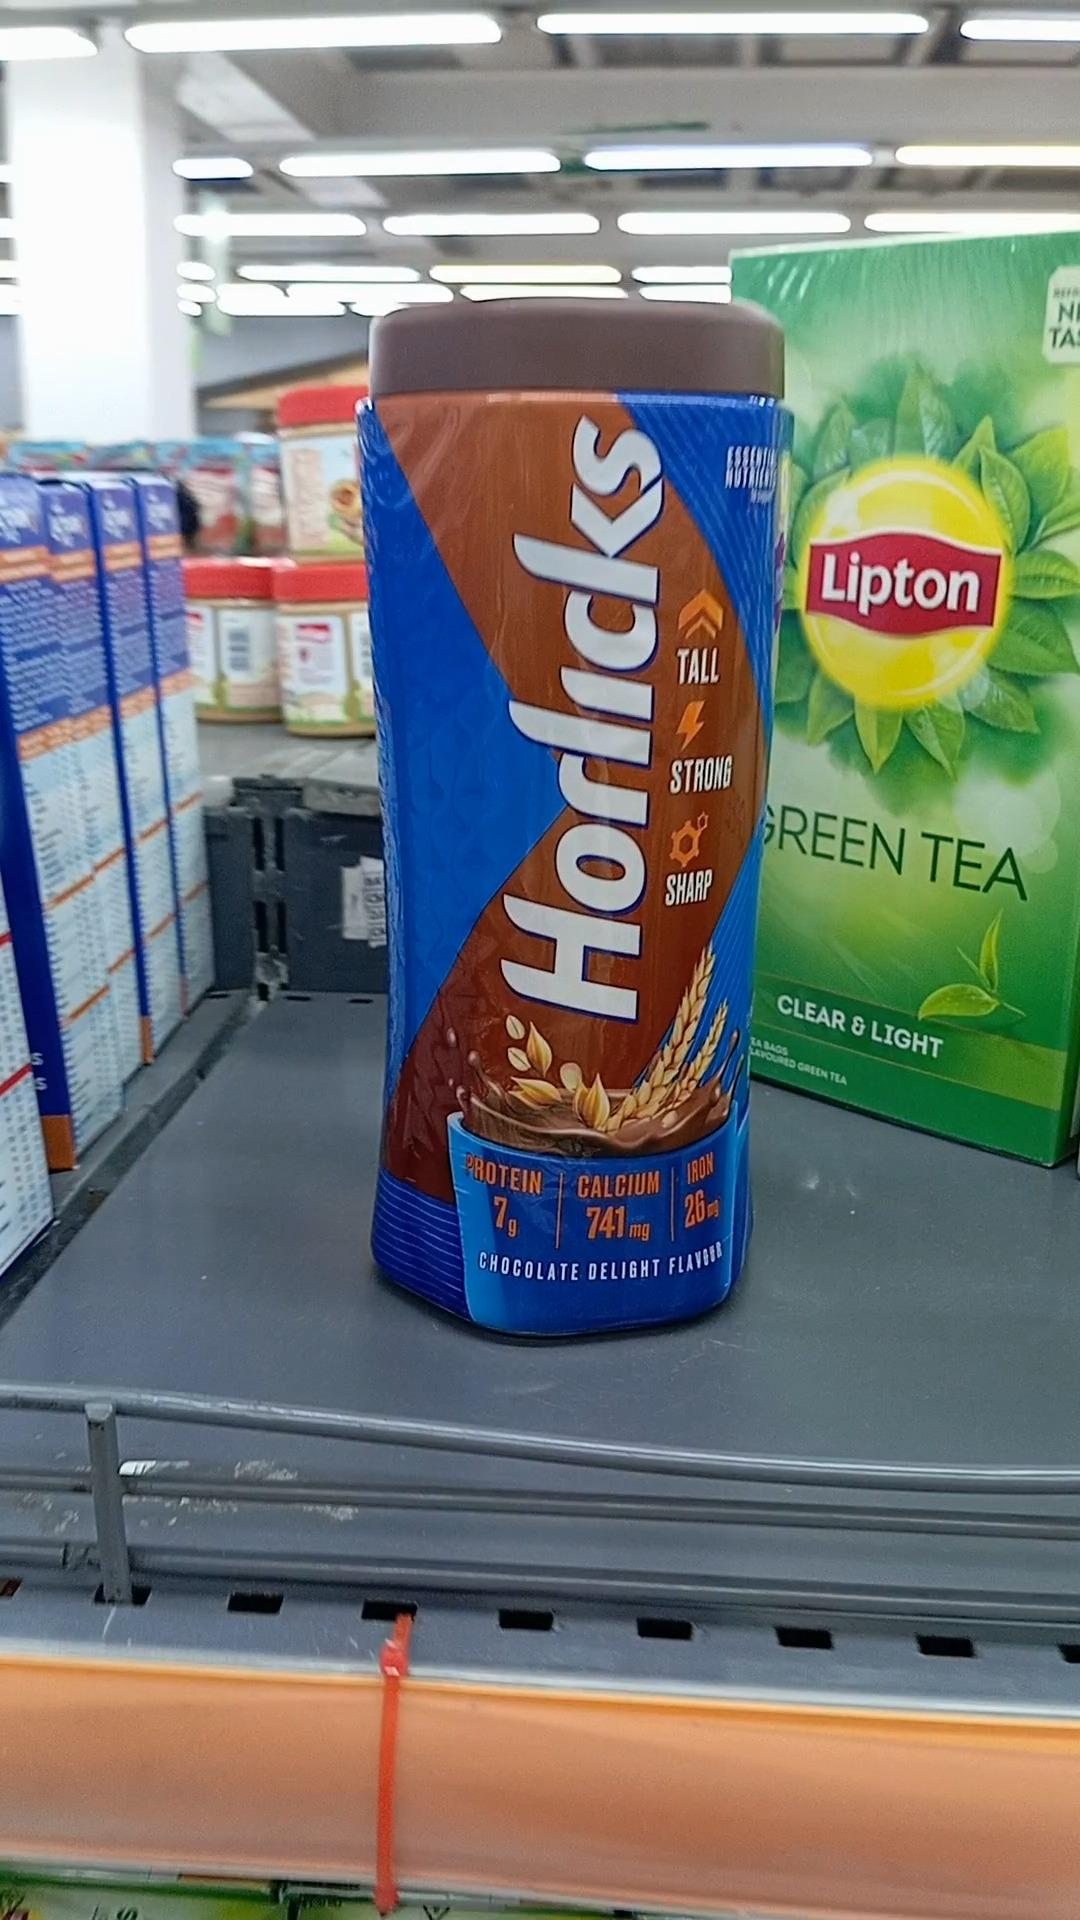HORLICK_CHOCOLATE_1_KG_JAR: (363, 297, 782, 1338)
